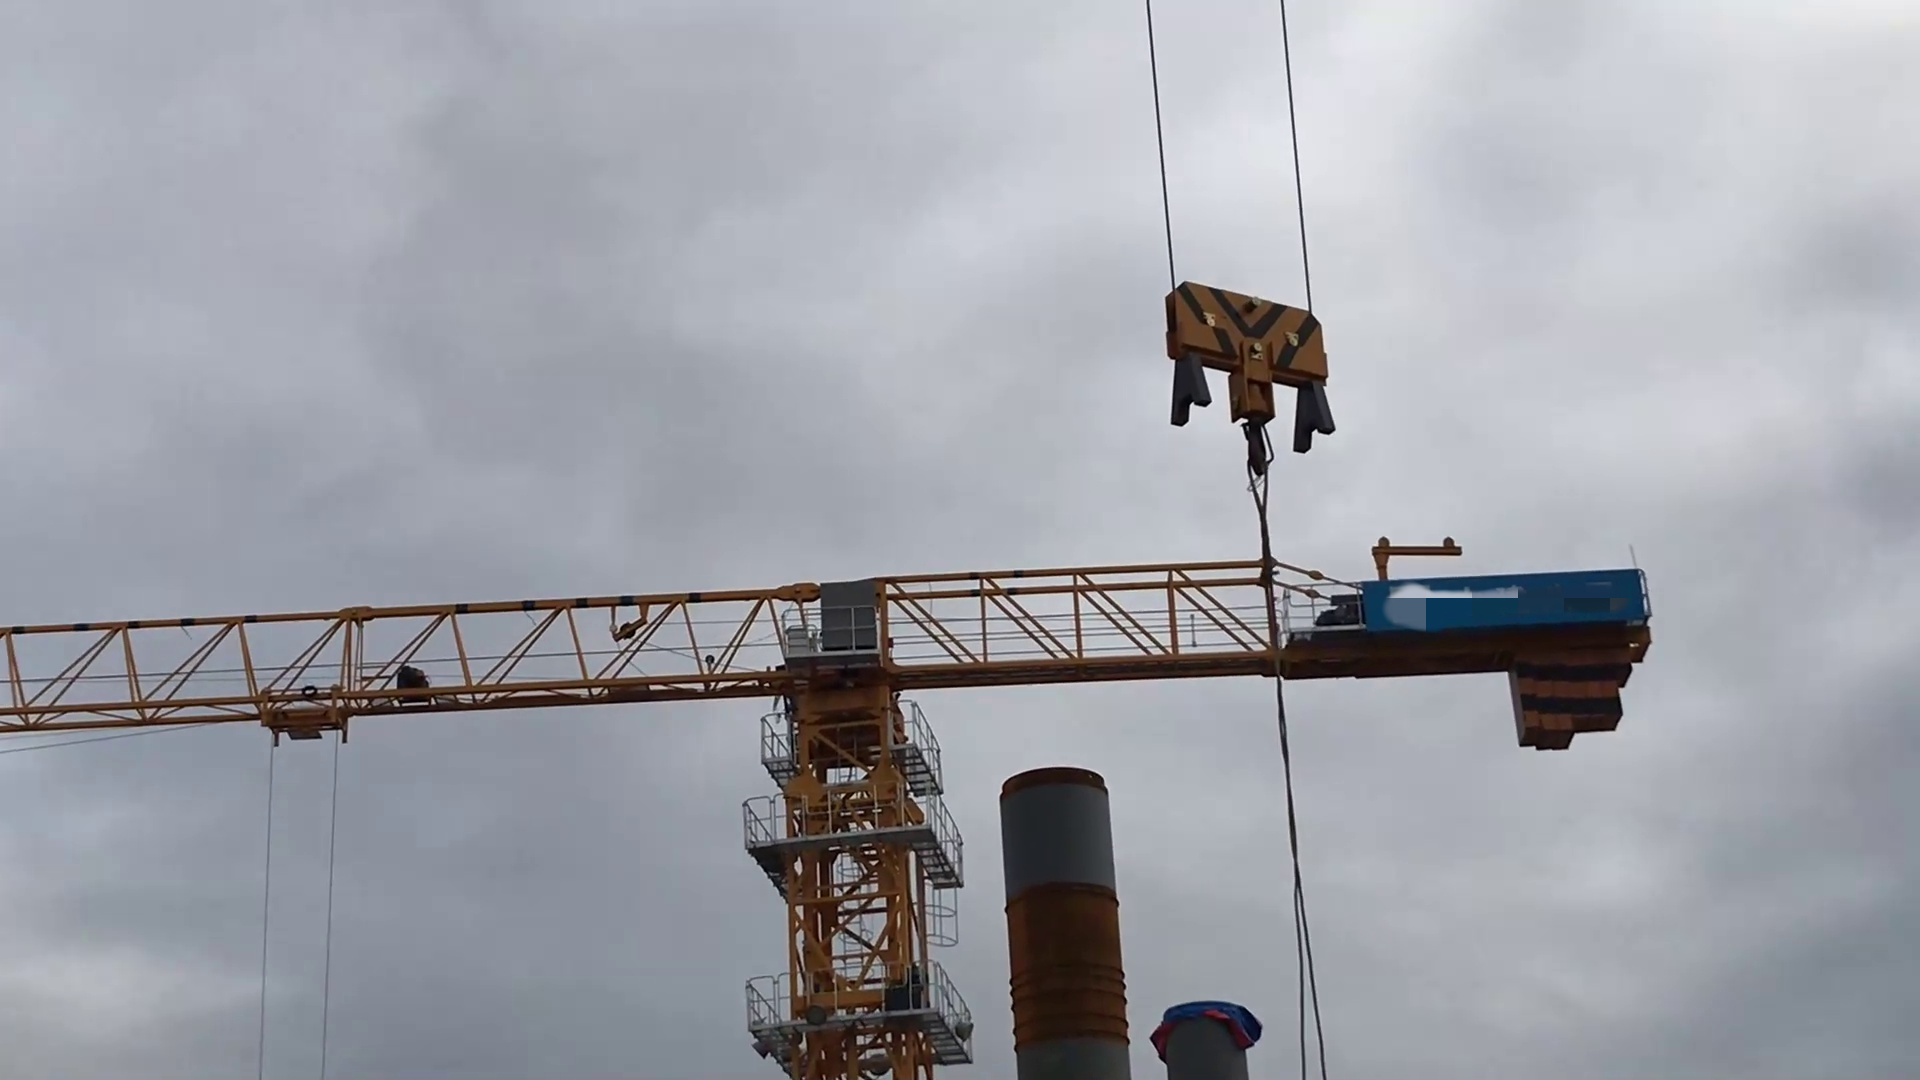hook: (1153, 274, 1344, 483)
